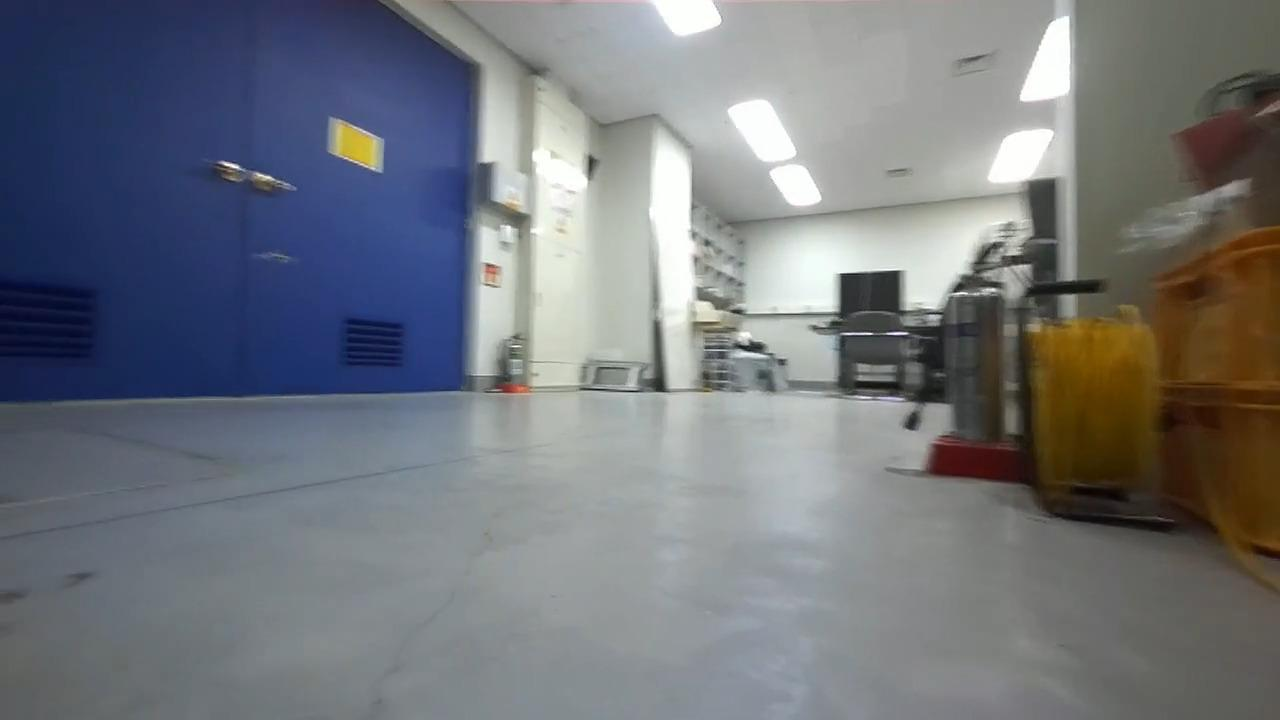crazyflie: (243, 243, 299, 269)
